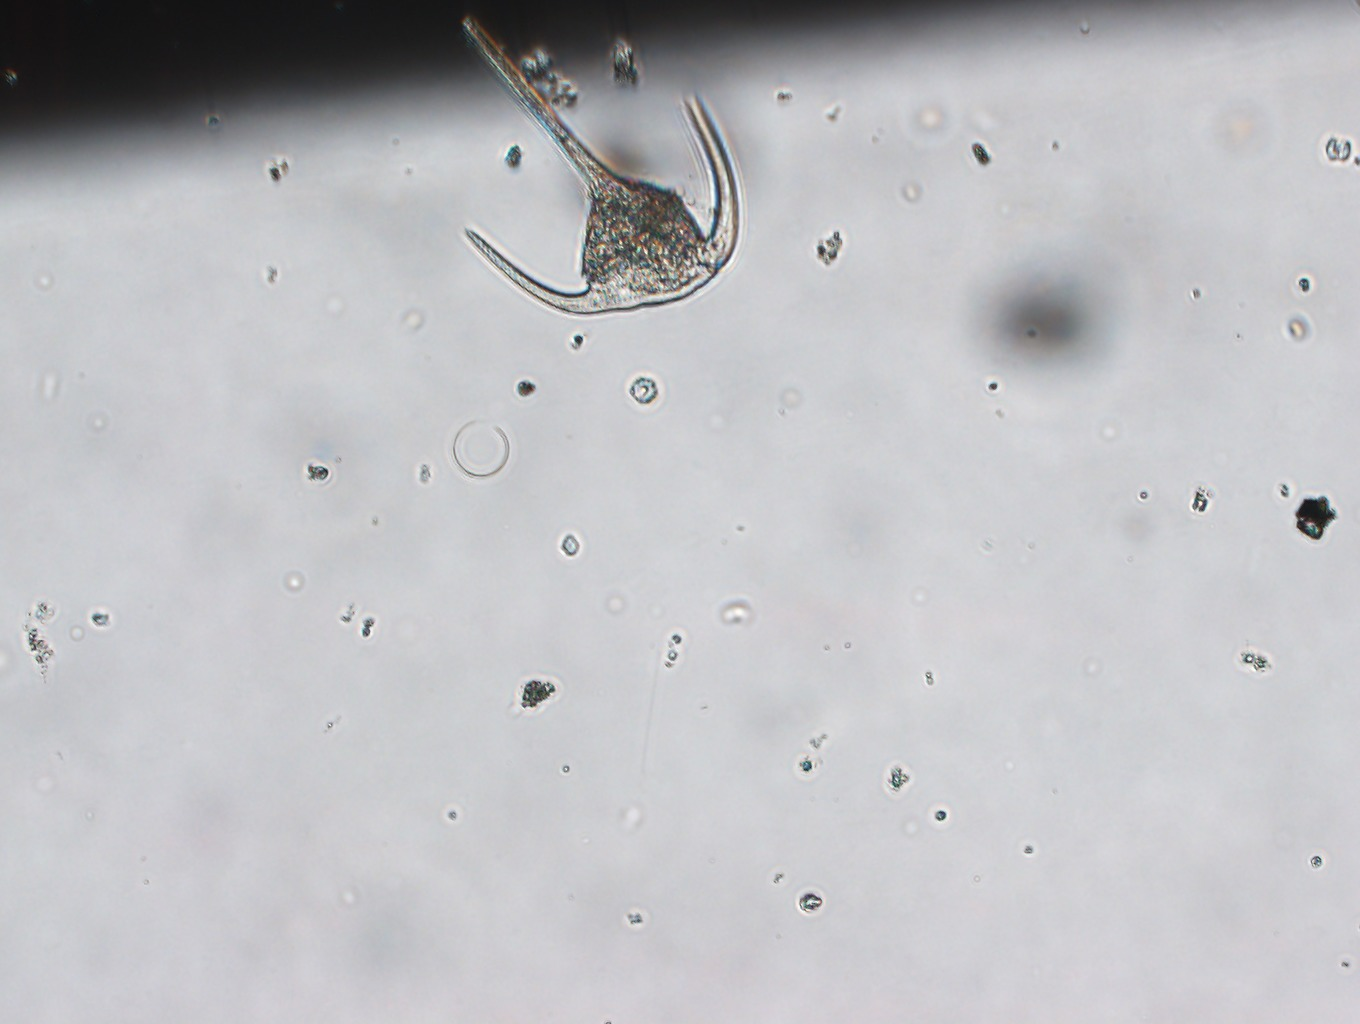ceratium tripos: (450, 17, 751, 325)
